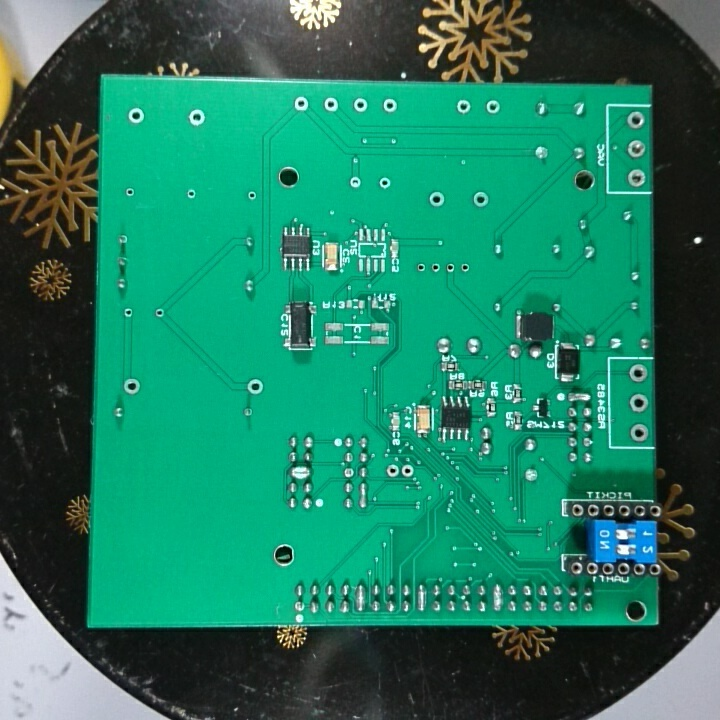F: (242, 374, 269, 398), (185, 106, 210, 131), (626, 360, 650, 386), (627, 392, 651, 418), (623, 166, 648, 190), (627, 419, 651, 443), (470, 186, 493, 211), (625, 138, 648, 162), (120, 375, 144, 398), (125, 105, 147, 129), (624, 108, 646, 131), (290, 93, 313, 115), (520, 464, 542, 486), (427, 189, 448, 211), (321, 95, 344, 115), (382, 460, 402, 483), (533, 143, 554, 164), (399, 459, 416, 484), (350, 95, 371, 115), (455, 95, 473, 117), (239, 403, 258, 422), (381, 95, 399, 115), (150, 303, 167, 323), (345, 173, 367, 188), (244, 186, 261, 205), (116, 228, 132, 248), (484, 98, 501, 116), (291, 598, 309, 615), (121, 184, 139, 200), (339, 464, 357, 480), (120, 304, 136, 321), (442, 258, 457, 276), (376, 173, 391, 191), (414, 259, 430, 275), (184, 186, 199, 203), (429, 258, 441, 276), (459, 261, 471, 277)
P: (492, 580, 506, 615), (353, 581, 367, 615), (357, 480, 371, 512), (567, 389, 594, 405), (414, 581, 427, 614), (287, 466, 314, 480)
